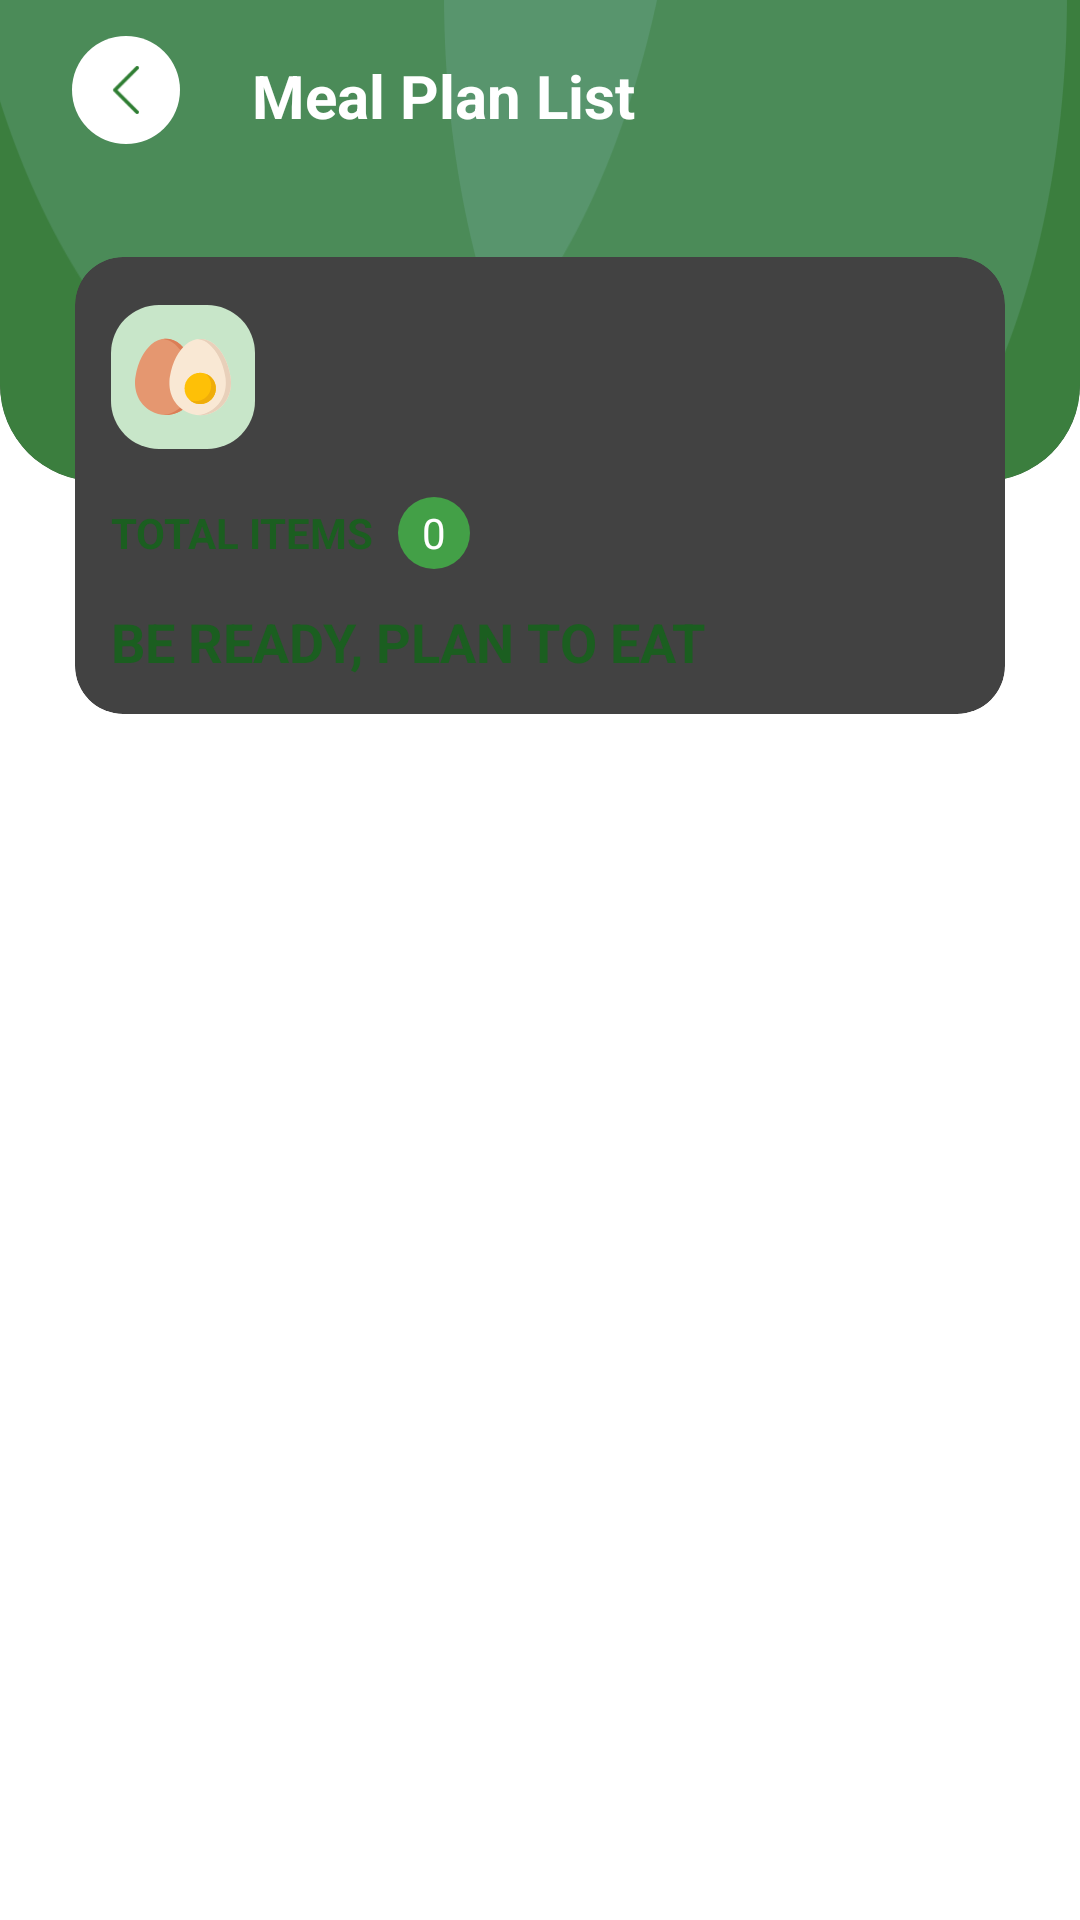

Screen size 1080px x 1920px. Icon name, then its box in pixels as bbox=(x1, y1, x2, y2):
egg: bbox=(111, 305, 255, 449)
left arrow: bbox=(78, 42, 174, 138)
